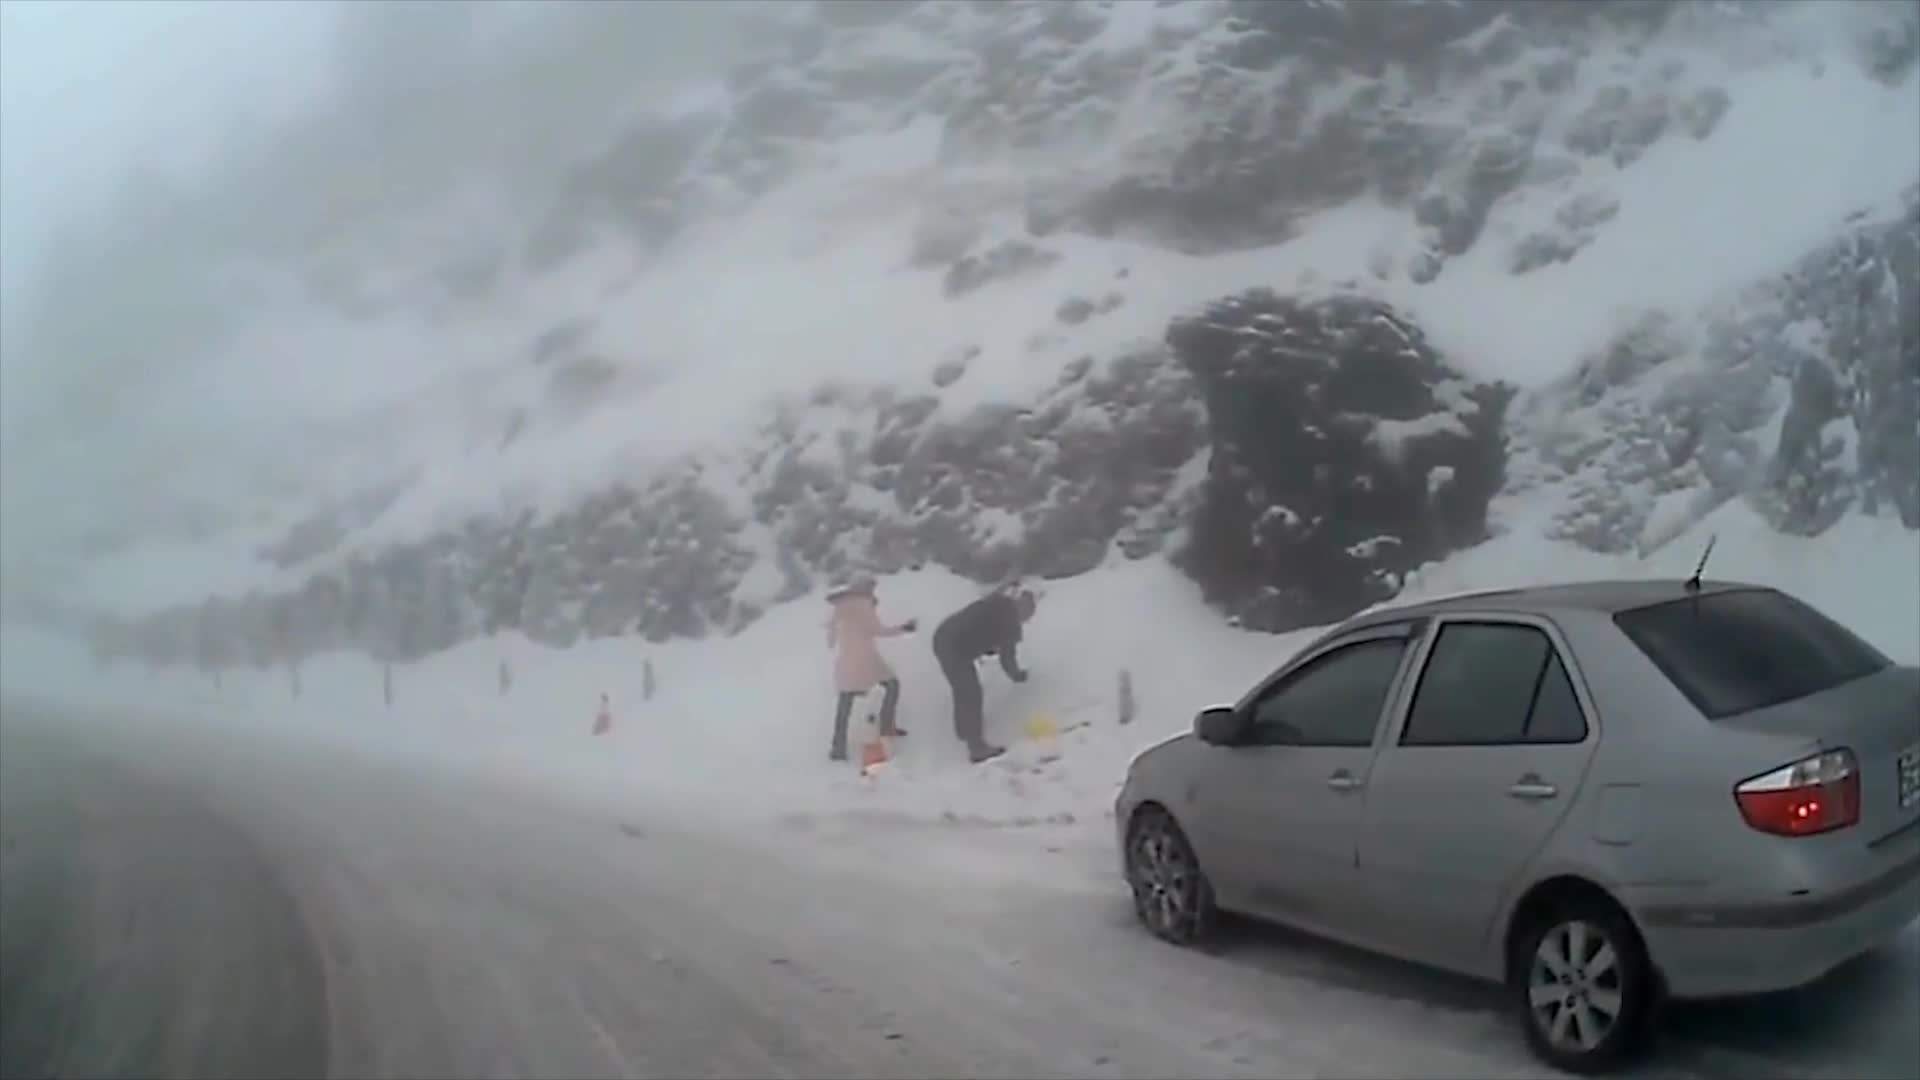pedestrian: (816, 567, 918, 761), (934, 586, 1040, 766)
vehicle: (1113, 577, 1920, 1076)
